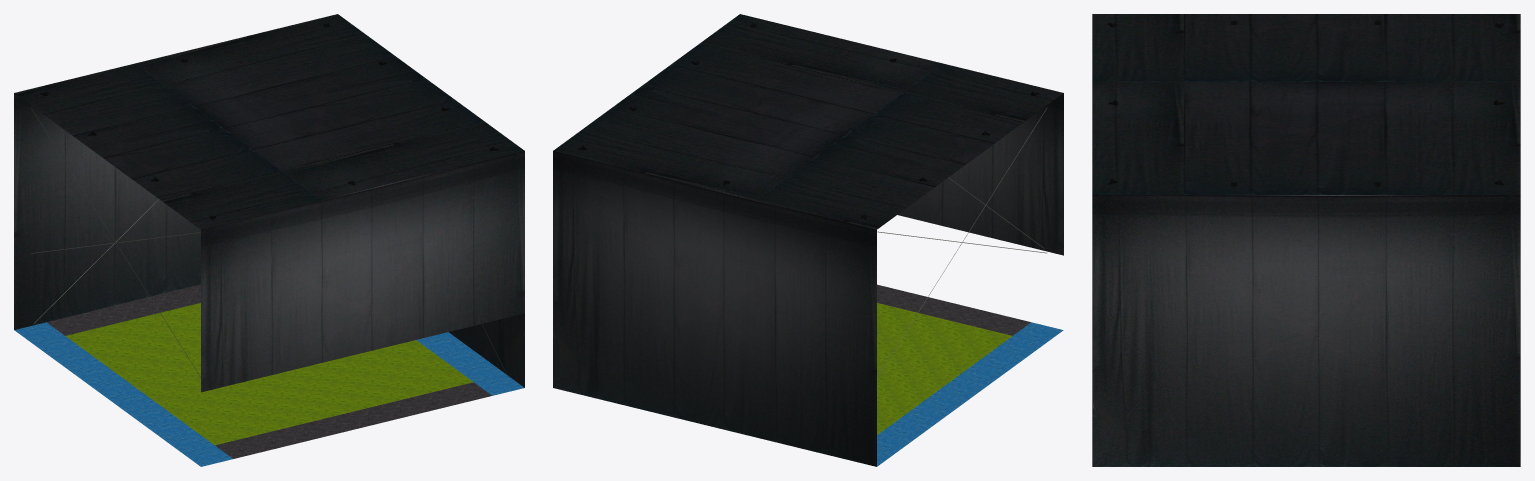
File: cyberzoo_solid.dae
The picture shows the model from 3 angles, left to right: view 1: azimuth 30°, elevation 25°; view 2: azimuth 150°, elevation 25°; view 3: azimuth 270°, elevation 25°; orthographic projection. The views are drawn at different scales.
Visible parts, largest first — view 1: instance_0 (×7), instance_13; view 2: instance_0 (×5); view 3: instance_0 (×2).
Part boxes in pixels (x1,y1,x2,y2): instance_0 (×7): (14,14,524,466); instance_13: (31,108,200,377); instance_0 (×5): (553,14,1063,466); instance_0 (×2): (1092,14,1520,466).
Size of the model in its own units: 394 by 394 by 278.
